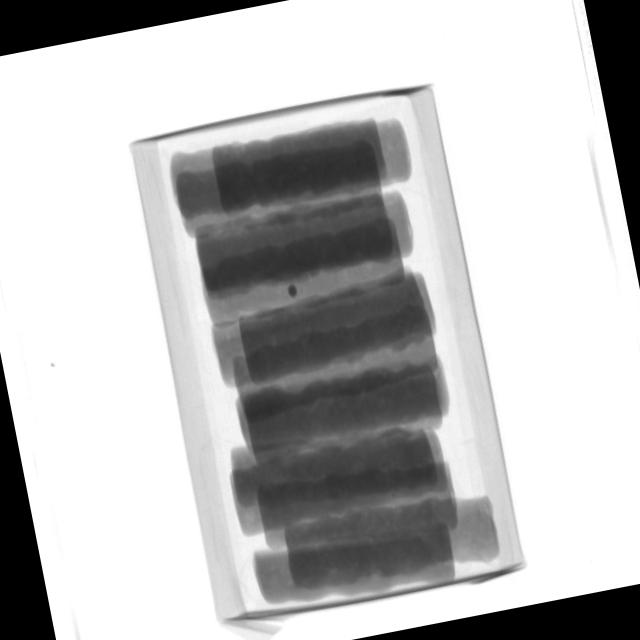ym: (286, 285, 299, 300)
